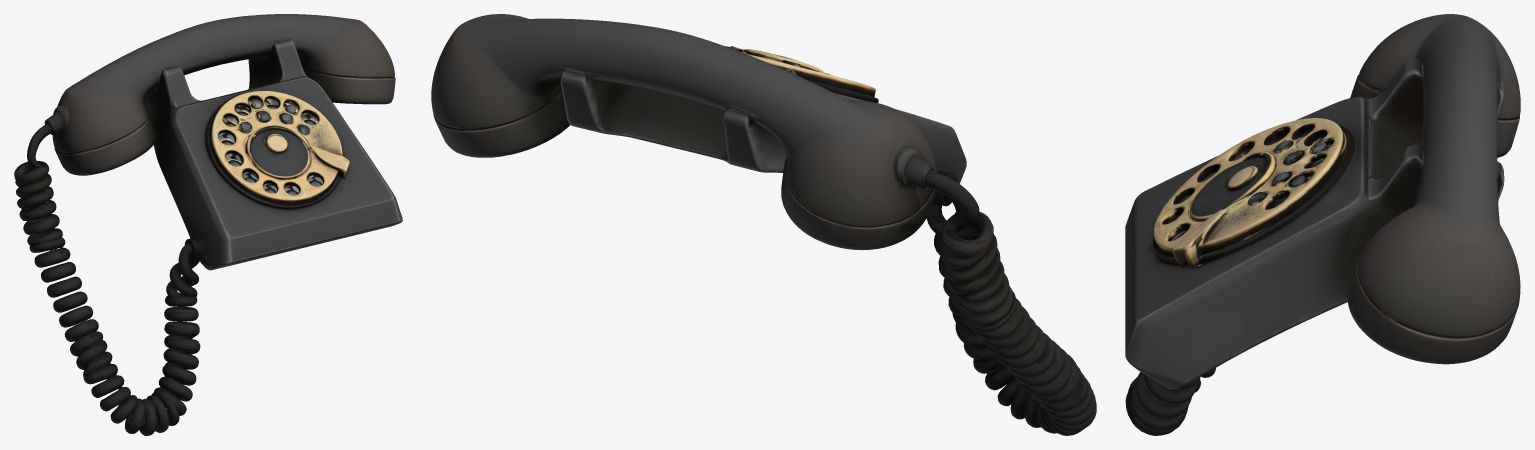
The model's file is telephone.glb.
The picture shows the model from 3 angles, left to right: view 1: azimuth 30°, elevation 25°; view 2: azimuth 150°, elevation 25°; view 3: azimuth 270°, elevation 25°; orthographic projection. The views are drawn at different scales.
Parts seen in each view (by area): view 1: node_0; view 2: node_0; view 3: node_0.
Part boxes in pixels (x1,y1,x2,y2): node_0: (14, 14, 402, 435); node_0: (431, 14, 1096, 435); node_0: (1125, 14, 1520, 435).
Bounding box in the file's own units: 0.962 × 0.7438 × 0.5631.
Materials: 1 (1 with a texture image).
